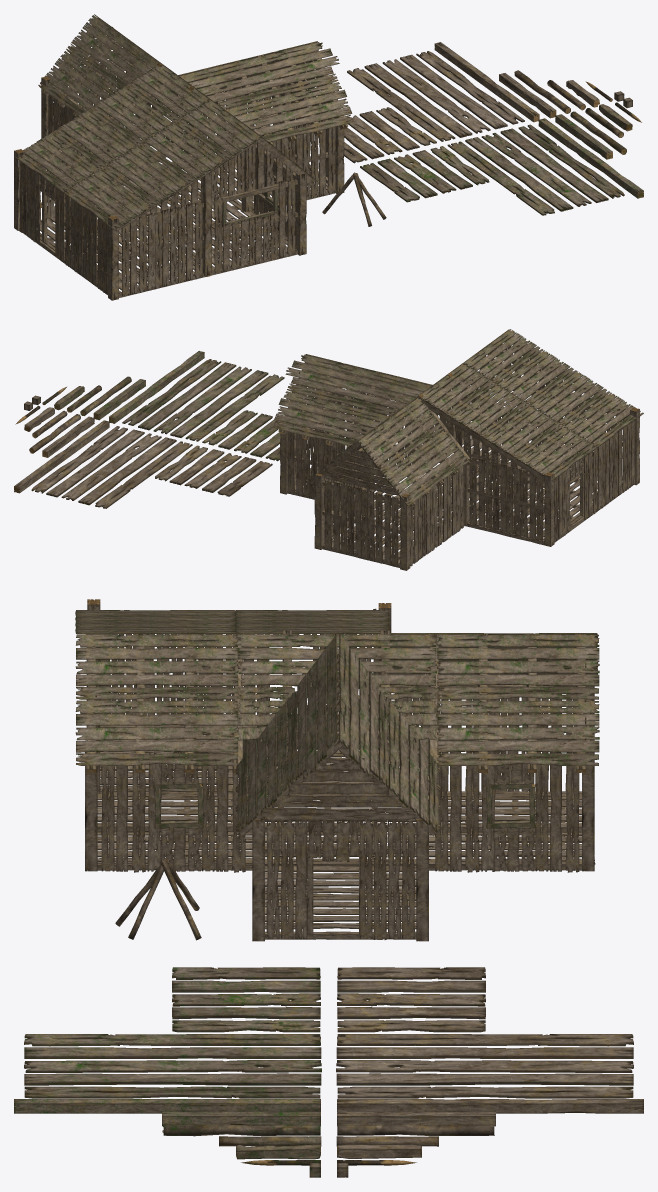
File: wooden_elements.fbx
The picture shows the model from 3 angles, top to bottom: view 1: azimuth 30°, elevation 25°; view 2: azimuth 150°, elevation 25°; view 3: azimuth 270°, elevation 25°; orthographic projection. The views are drawn at different scales.
Parts seen in each view (by area): view 1: wooden_house_preview, Cube.021, Cube.022, Cube.007, Cube.009, Cube.014, Cube.020, Cube.006, Cube.008, Cube.012, Cube.010, Cube.023 (+14 smaller); view 2: wooden_house_preview, Cube.021, Cube.007, Cube.009, Cube.022, Cube.008, Cube.014, Cube.020, Cube.006, Cube.012, Cube.023, Cube.010 (+13 smaller); view 3: wooden_house_preview, Cube.026, Cube.012, Cube.009, Cube.022, Cube.006, Cube.020, Cube.007, Cube.021, Cube.010, Cube.023, Cube.008 (+19 smaller).
Boxes of the visible parts, left/top/right/bottom form: wooden_house_preview: left=14, top=14, right=386, bottom=300; Cube.021: left=447, top=141, right=554, bottom=215; Cube.022: left=481, top=133, right=591, bottom=206; Cube.007: left=347, top=68, right=455, bottom=141; Cube.009: left=382, top=59, right=490, bottom=133; Cube.014: left=465, top=137, right=573, bottom=211; Cube.020: left=518, top=124, right=624, bottom=198; Cube.006: left=416, top=51, right=524, bottom=124; Cube.008: left=364, top=63, right=472, bottom=137; Cube.012: left=434, top=42, right=539, bottom=122; Cube.010: left=400, top=54, right=507, bottom=129; Cube.023: left=500, top=128, right=608, bottom=202; wooden_house_preview: left=273, top=329, right=643, bottom=570; Cube.021: left=185, top=374, right=284, bottom=441; Cube.007: left=95, top=441, right=192, bottom=508; Cube.009: left=61, top=433, right=161, bottom=500; Cube.022: left=153, top=366, right=251, bottom=434; Cube.008: left=78, top=437, right=176, bottom=505; Cube.014: left=170, top=370, right=268, bottom=437; Cube.020: left=122, top=359, right=221, bottom=425; Cube.006: left=31, top=426, right=127, bottom=493; Cube.012: left=14, top=420, right=109, bottom=493; Cube.023: left=138, top=362, right=236, bottom=430; Cube.010: left=46, top=429, right=144, bottom=497; wooden_house_preview: left=75, top=599, right=599, bottom=941; Cube.026: left=14, top=1099, right=320, bottom=1113; Cube.012: left=337, top=1099, right=643, bottom=1113; Cube.009: left=336, top=1060, right=633, bottom=1072; Cube.022: left=24, top=1060, right=321, bottom=1072; Cube.006: left=337, top=1086, right=633, bottom=1098; Cube.020: left=24, top=1086, right=320, bottom=1098; Cube.007: left=337, top=1034, right=633, bottom=1046; Cube.021: left=24, top=1034, right=320, bottom=1046; Cube.010: left=336, top=1073, right=633, bottom=1085; Cube.023: left=24, top=1073, right=321, bottom=1085; Cube.008: left=336, top=1047, right=633, bottom=1058.
Size of the model in its own units: 1436 by 312 by 852.
